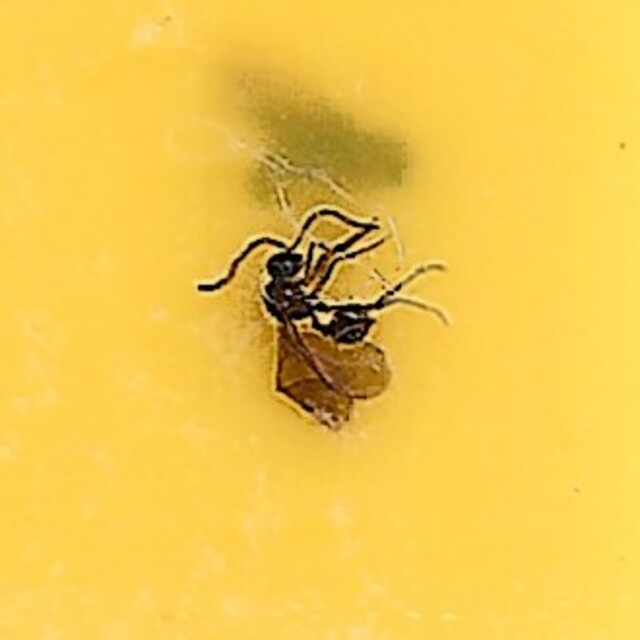Hymenoptera: (194, 206, 446, 434)
